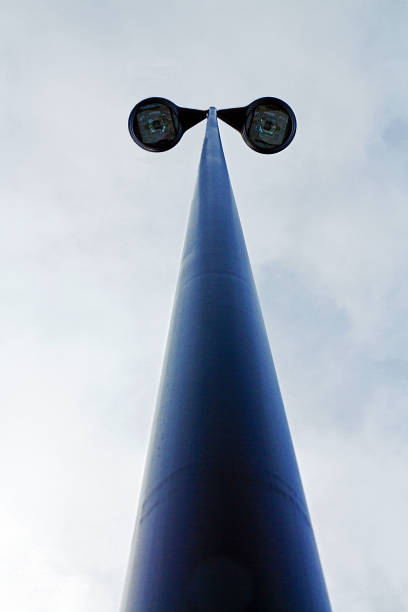light_pole: (121, 130, 338, 612)
